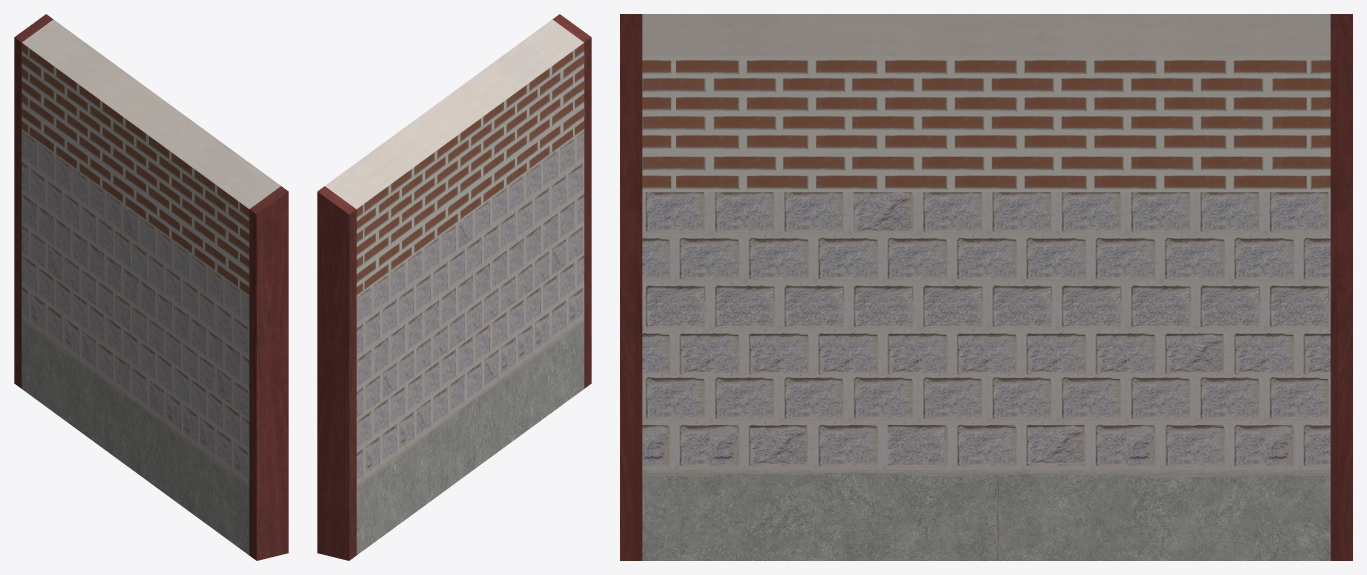
The model's file is SM_StoneWall02D.fbx.
The picture shows the model from 3 angles, left to right: view 1: azimuth 30°, elevation 25°; view 2: azimuth 150°, elevation 25°; view 3: azimuth 270°, elevation 25°; orthographic projection. The views are drawn at different scales.
Parts seen in each view (by area): view 1: SM_StoneWall02D; view 2: SM_StoneWall02D; view 3: SM_StoneWall02D.
Boxes of the visible parts, x1,y1,x2,y2 form: SM_StoneWall02D: [14, 14, 288, 560]; SM_StoneWall02D: [317, 14, 591, 560]; SM_StoneWall02D: [620, 14, 1352, 560].
Size of the model in its own units: 17.02 by 225 by 185.
